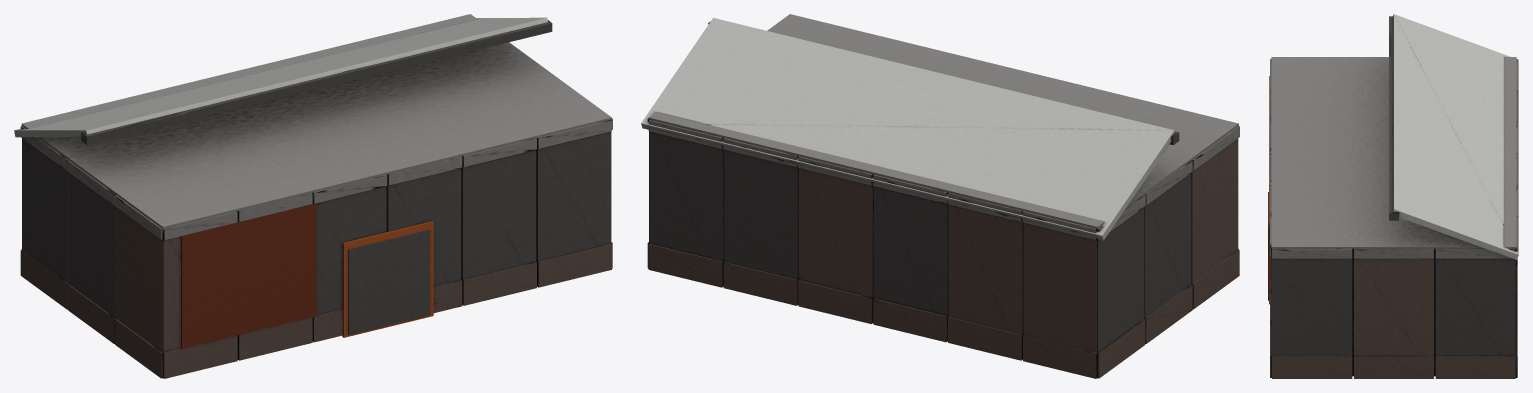
File: B_hall_c.glb
3 views of the same model, side by side, from view 1: azimuth 30°, elevation 25°; view 2: azimuth 150°, elevation 25°; view 3: azimuth 270°, elevation 25° (orthographic). The views are drawn at different scales.
Visible parts, largest first — view 1: Cube; view 2: Cube; view 3: Cube.
Part boxes in pixels (box(x1,y1,x2,y2)): Cube: box(14, 14, 612, 378); Cube: box(641, 14, 1239, 378); Cube: box(1268, 14, 1518, 378).
Bounding box in the file's own units: 22.8 × 9.38 × 12.28.
Materials: 1 (1 with a texture image).
